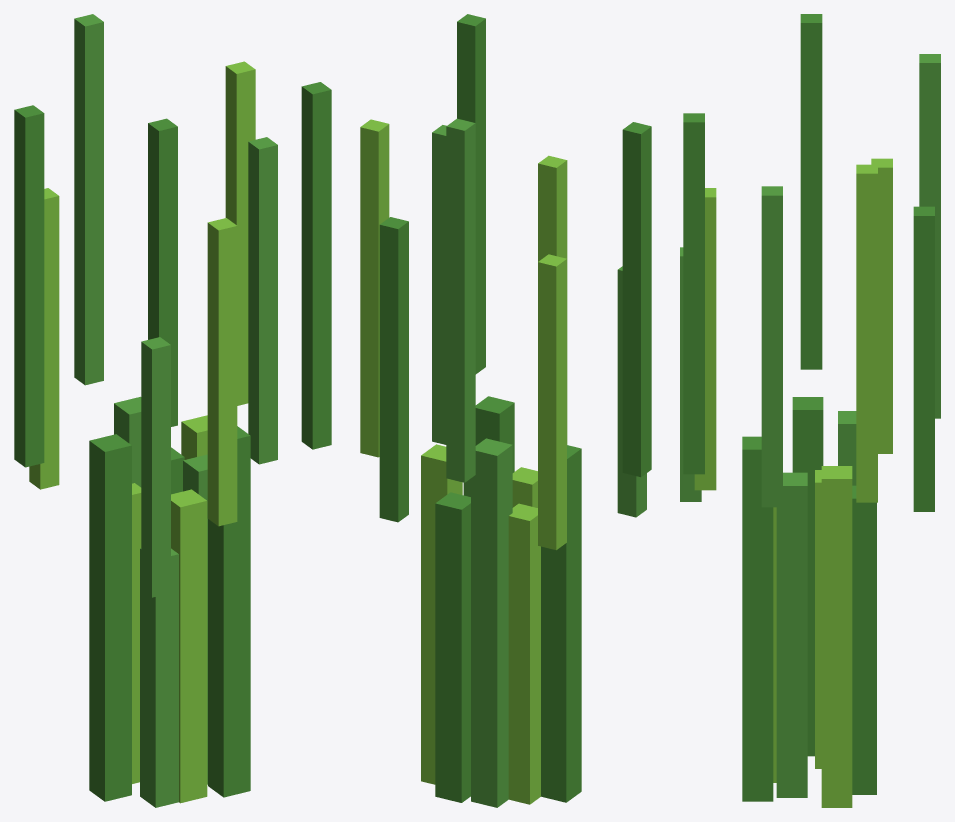
Rendered from meadow_grass.glb.
3 views of the same model, side by side, from view 1: azimuth 30°, elevation 25°; view 2: azimuth 150°, elevation 25°; view 3: azimuth 270°, elevation 25° (orthographic).
Visible parts, largest first — view 1: grass; view 2: grass; view 3: grass.
Part boxes in pixels (x1,y1,x2,y2): grass: [14, 14, 331, 807]; grass: [360, 14, 651, 807]; grass: [680, 14, 940, 807].
Size of the model in its own units: 0.3355 by 0.8908 by 0.2964.
